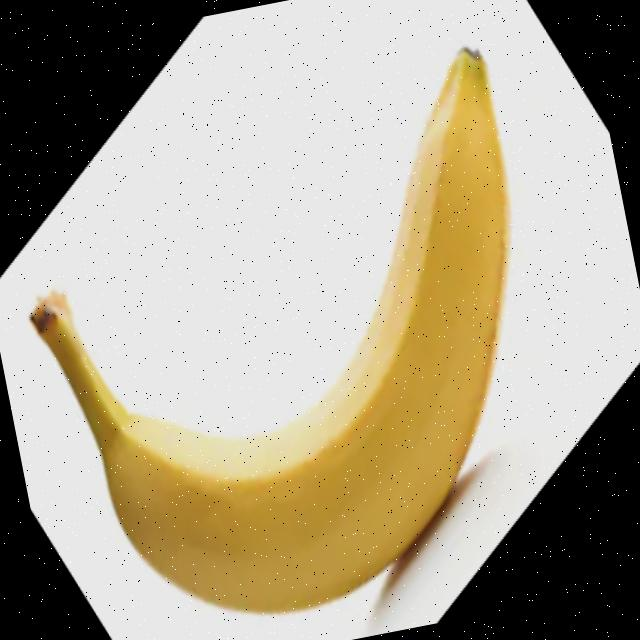Ripe: (1, 41, 586, 640)
